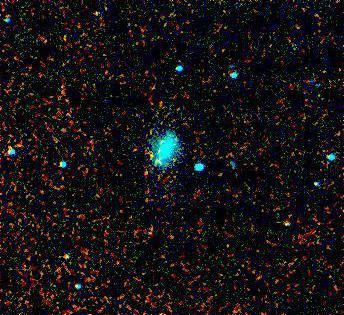star: (52, 243, 82, 273)
